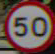Speed limit: (6, 1, 51, 50)
